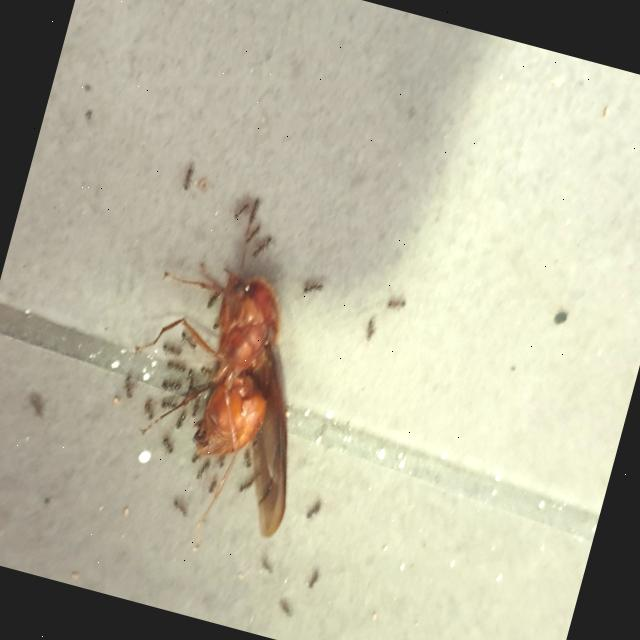Dead-Male-Alate: (86, 202, 354, 572)
